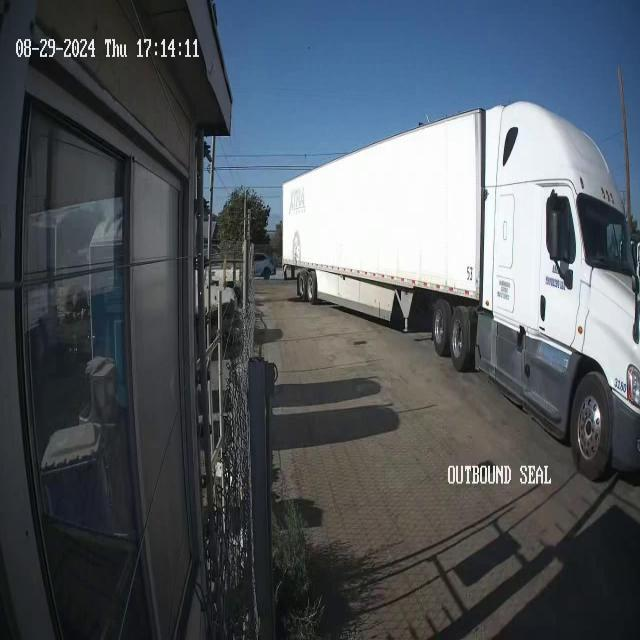TRUCK_CONTAINER: (280, 96, 639, 482)
